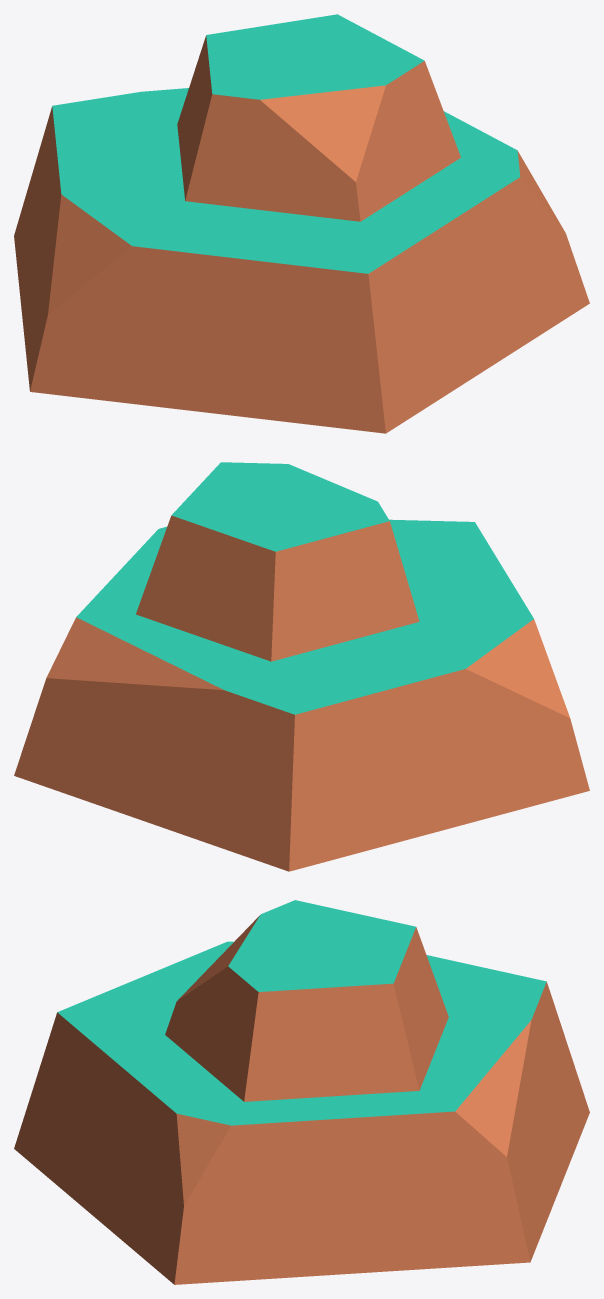
Rendered from rock_smallTopA.glb.
3 views of the same model, one above another, from view 1: azimuth 30°, elevation 25°; view 2: azimuth 150°, elevation 25°; view 3: azimuth 270°, elevation 25° (orthographic). The views are drawn at different scales.
Parts seen in each view (by area): view 1: rock_smallTopA; view 2: rock_smallTopA; view 3: rock_smallTopA.
Boxes of the visible parts, x1=… form: rock_smallTopA: x1=14, y1=14, x2=589, y2=433; rock_smallTopA: x1=14, y1=462, x2=589, y2=871; rock_smallTopA: x1=14, y1=900, x2=589, y2=1284.
Size of the model in its own units: 0.4877 by 0.22 by 0.4891.
